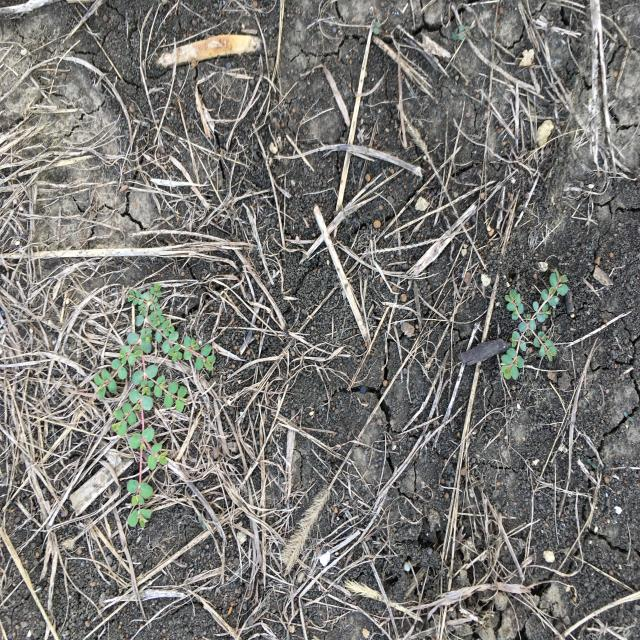SpottedSpurge: (91, 280, 218, 533), (498, 267, 570, 383)
